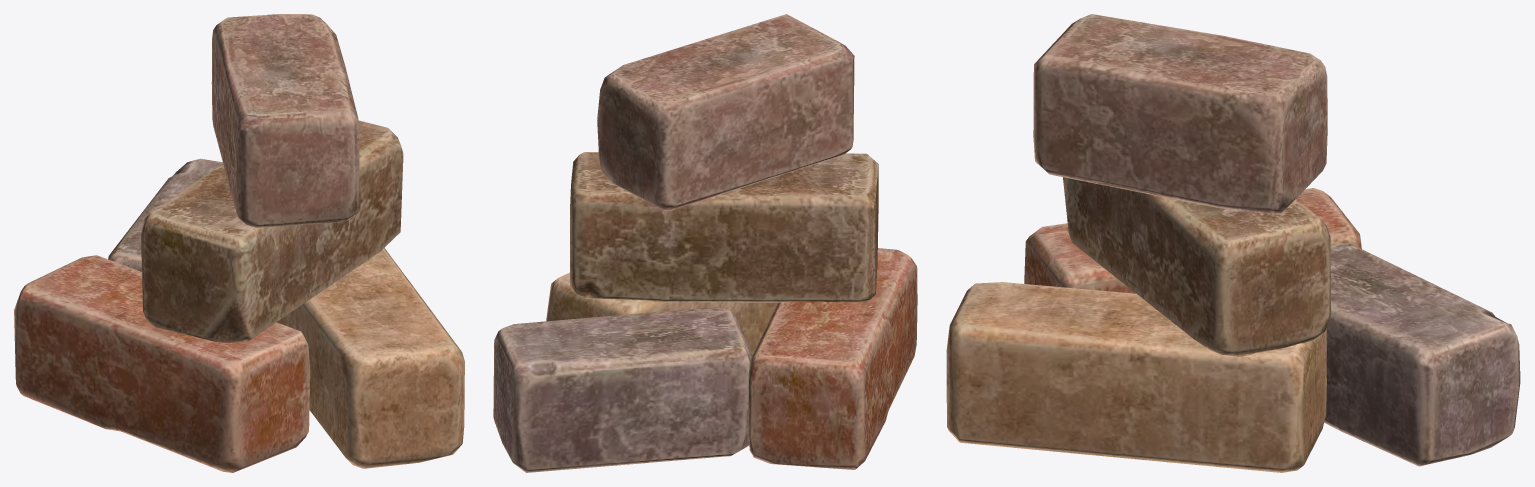
3 renders of one model, left to right at view 1: azimuth 30°, elevation 25°; view 2: azimuth 150°, elevation 25°; view 3: azimuth 270°, elevation 25°, orthographic. The views are drawn at different scales.
Visible parts, largest first — view 1: SM_Human_Ruins_Brick_Dmg_07_LOD0; view 2: SM_Human_Ruins_Brick_Dmg_07_LOD0; view 3: SM_Human_Ruins_Brick_Dmg_07_LOD0.
Boxes of the visible parts, left/top/right/bottom form: SM_Human_Ruins_Brick_Dmg_07_LOD0: left=14, top=14, right=464, bottom=472; SM_Human_Ruins_Brick_Dmg_07_LOD0: left=493, top=14, right=917, bottom=472; SM_Human_Ruins_Brick_Dmg_07_LOD0: left=946, top=14, right=1520, bottom=472.
Bounding box in the file's own units: 0.408 × 0.375 × 0.5515.
Materials: 1 (1 with a texture image).
